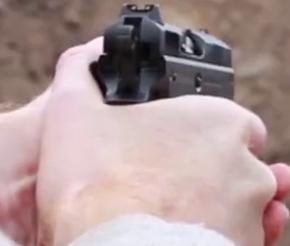gun: (1, 1, 290, 246)
